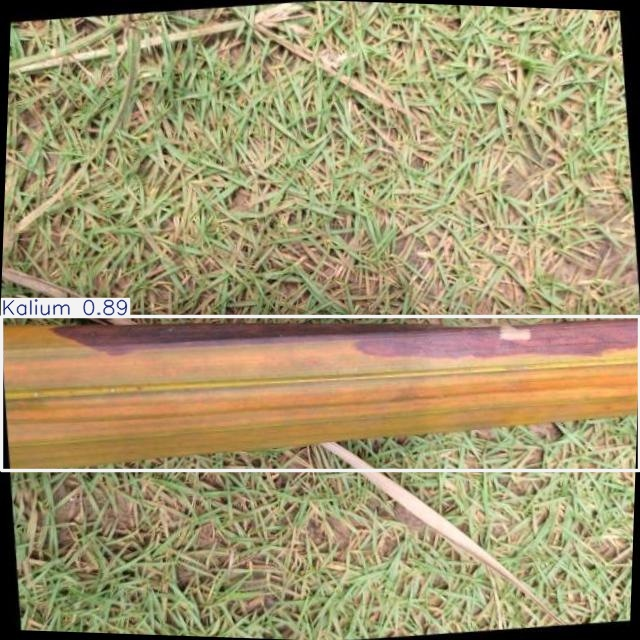Kalium: (2, 317, 639, 471)
